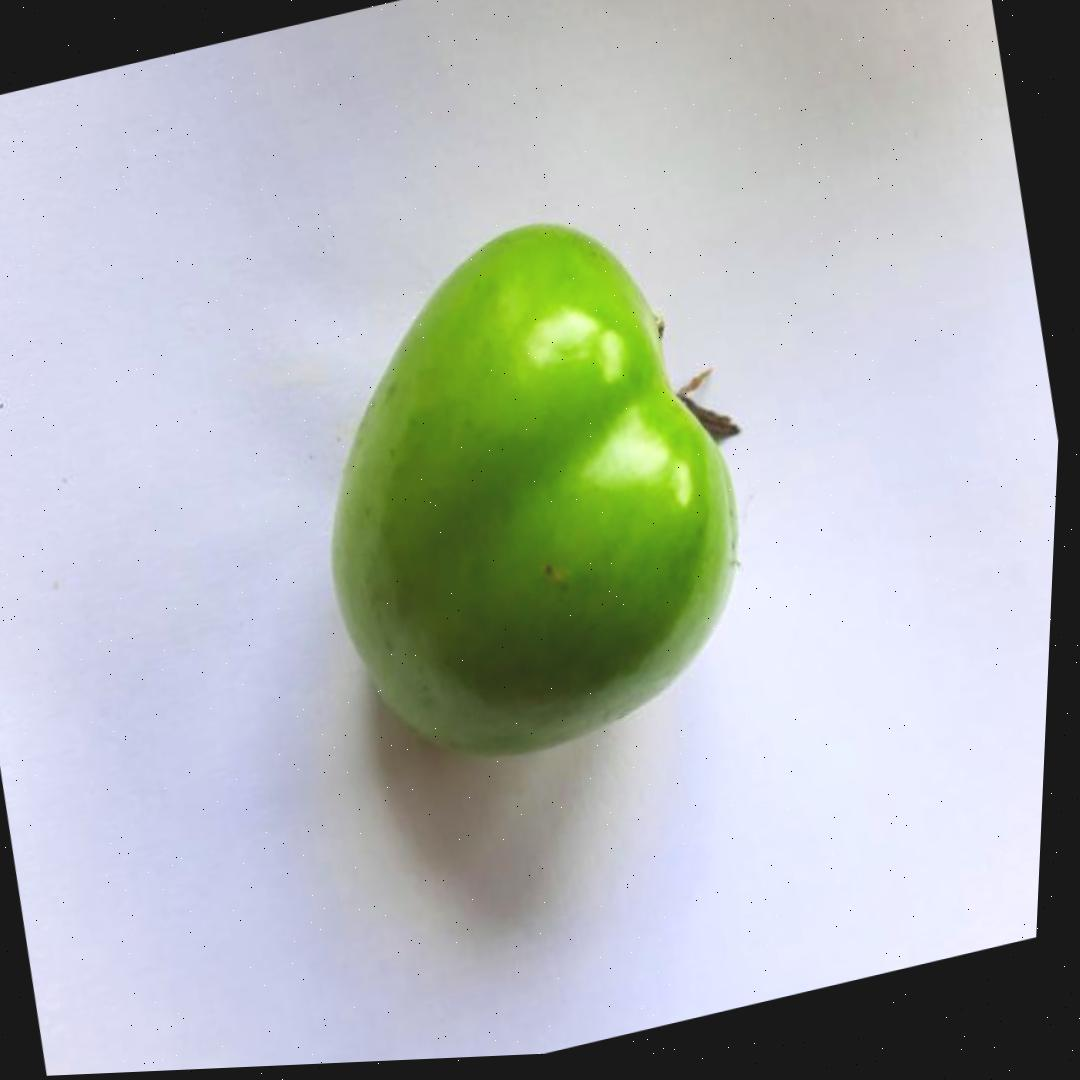mentah: (261, 178, 790, 800)
